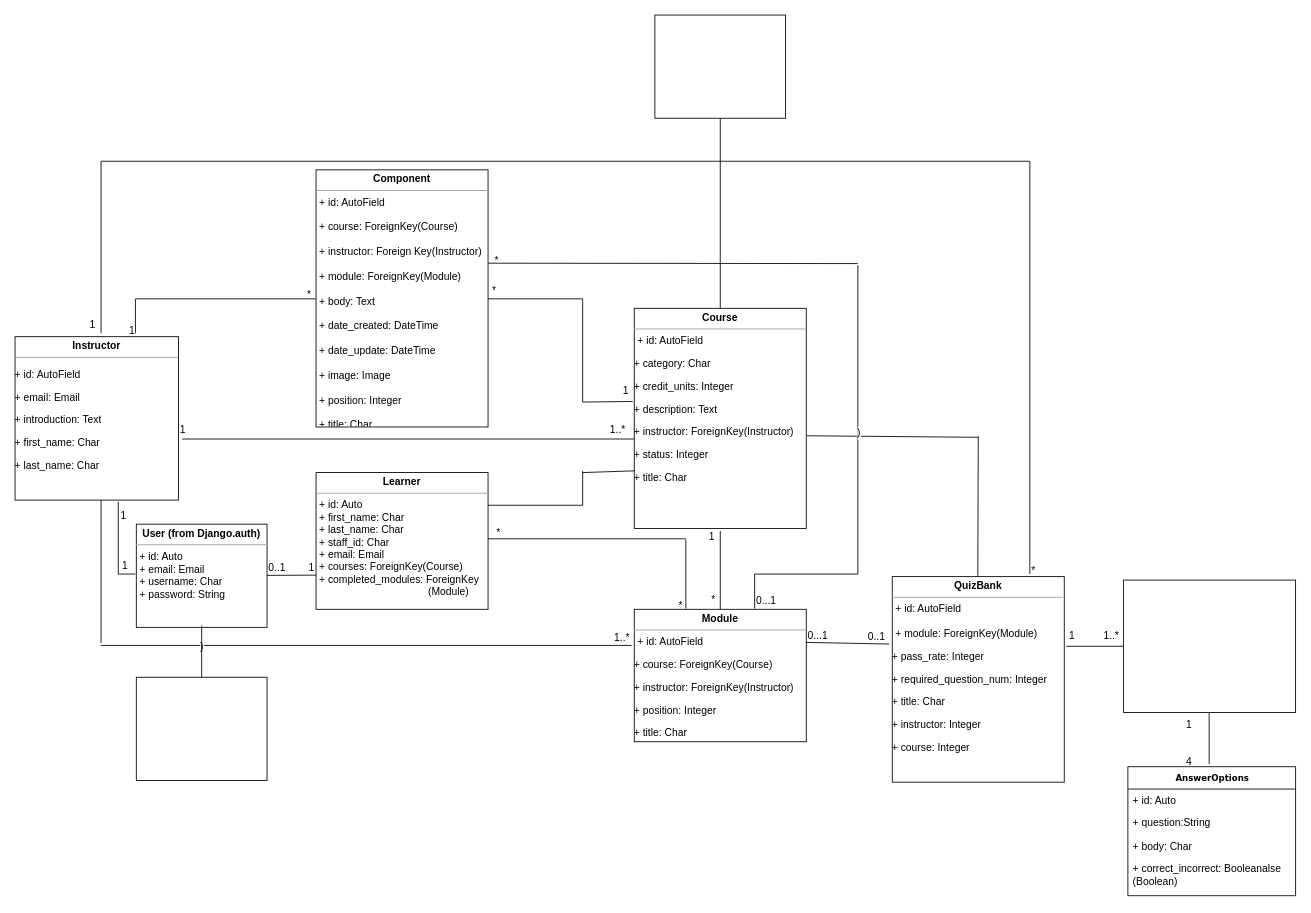
Image size: 1311x913. Some labels were removed from this diagram. Each missing label, with the centre of its shape:
Category + category_name: Char: (x=720, y=66)
Groups (from Django.auth) + group_name: Char: (x=201, y=728)
Question + id: AutoField + quizBank: ForeignKey(QuizBank) + body: Char: (x=1209, y=646)
